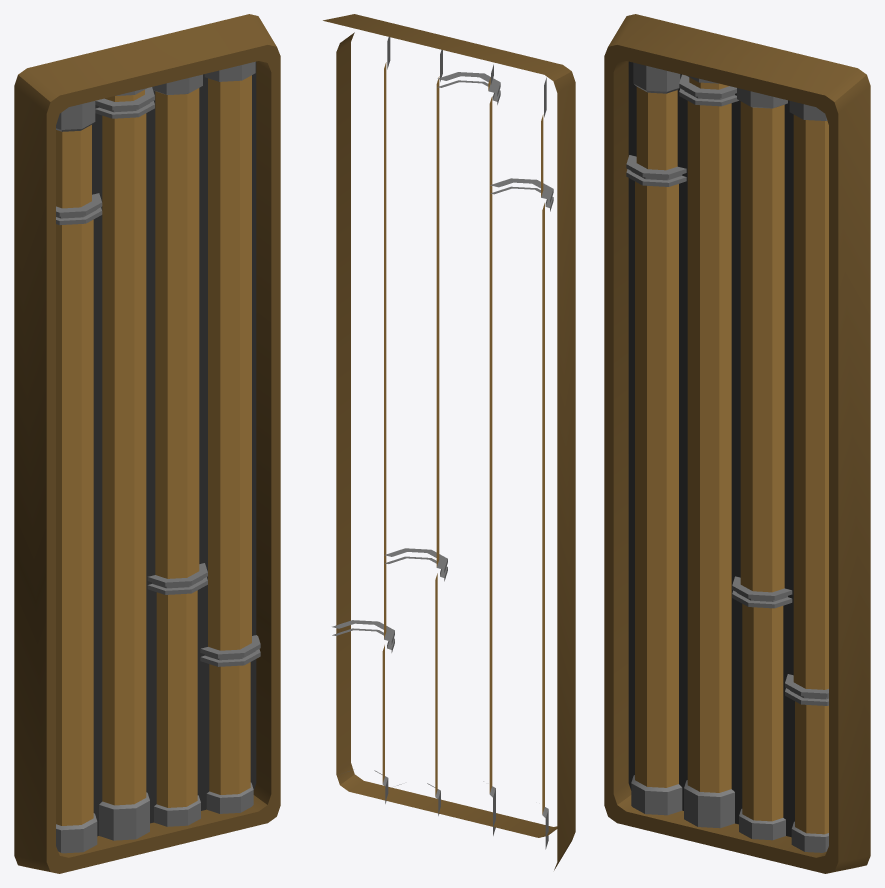
The model's file is quaternius-modular-sci-fi-details-pipes-long.glb.
3 views of the same model, side by side, from view 1: azimuth 30°, elevation 25°; view 2: azimuth 150°, elevation 25°; view 3: azimuth 330°, elevation 25° (orthographic).
Parts seen in each view (by area): view 1: Details_Pipes_Long; view 2: Details_Pipes_Long; view 3: Details_Pipes_Long.
Boxes of the visible parts, x1,y1,x2,y2 form: Details_Pipes_Long: (14,14,280,873); Details_Pipes_Long: (323,14,575,870); Details_Pipes_Long: (604,14,870,873).
Size of the model in its own units: 0.5144 by 1.58 by 0.0932.
